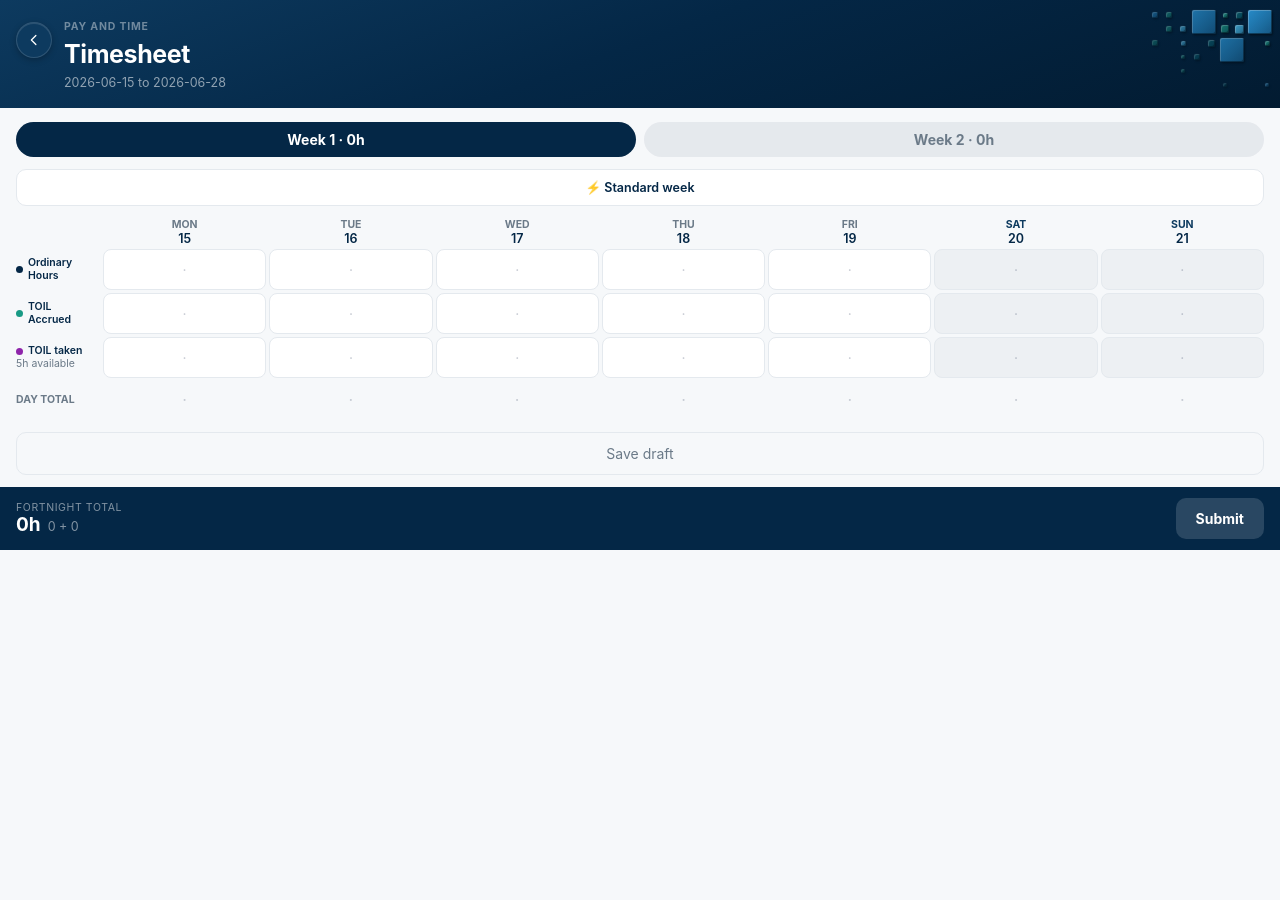
moving round the grid › on a phone, the keypad has Next day
Expected: the text "Ordinary Hours" is shown, [16,256,72,282]
Click the 1st button "·" at (185, 270), box [103,249,266,290]
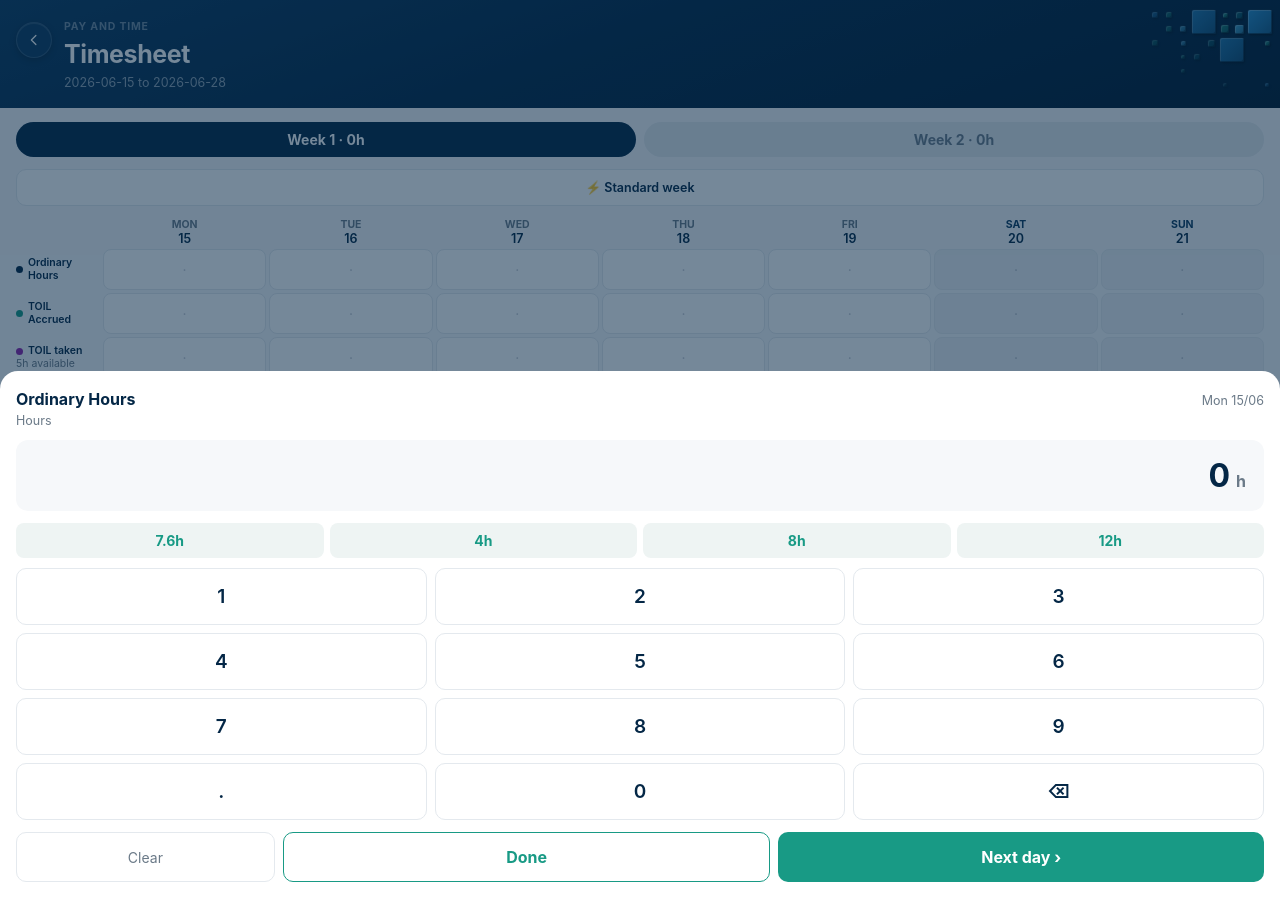
Click the button "8" at (640, 726), box [435,698,845,755]
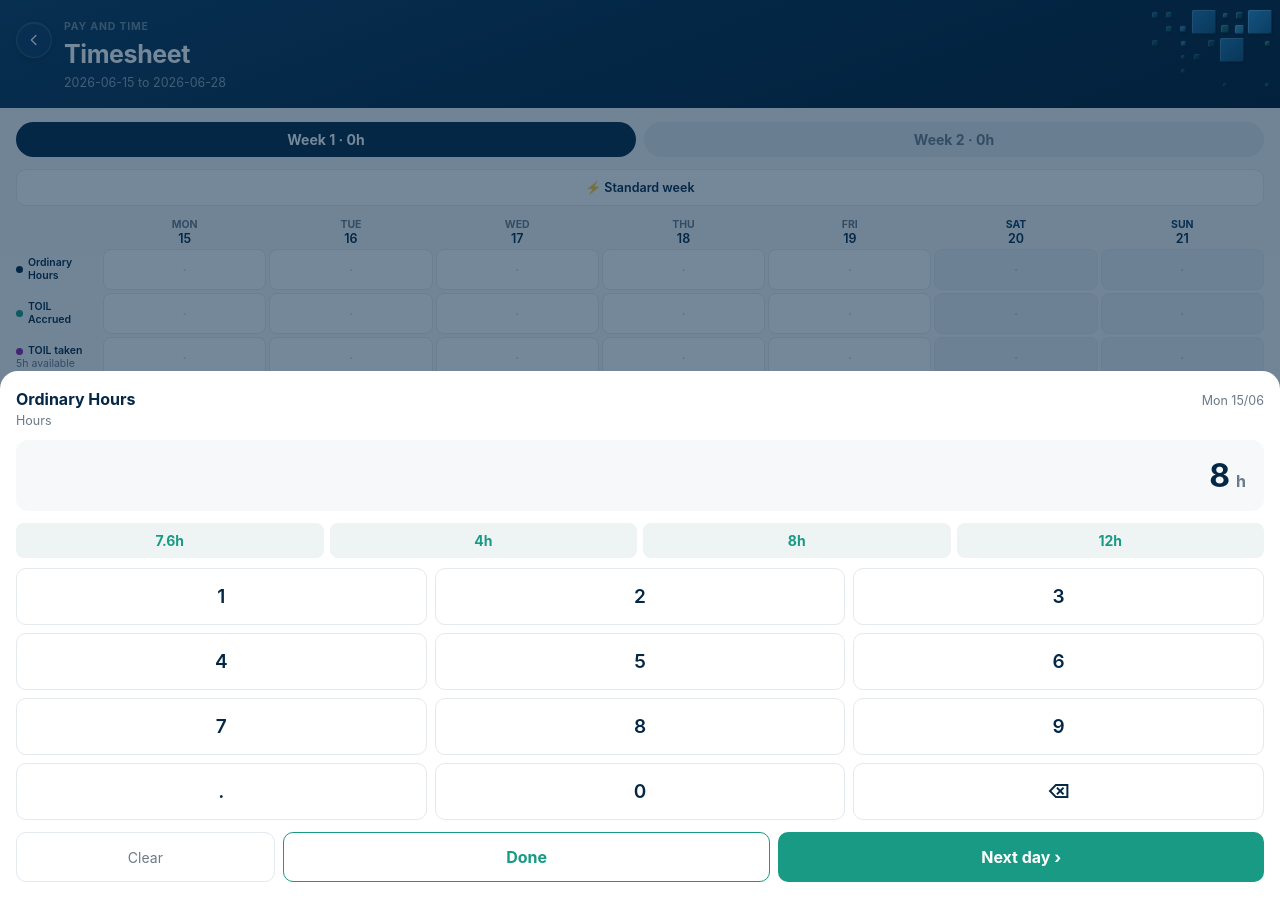
Click the button "Next day ›" at (1021, 857), box [778,832,1264,882]
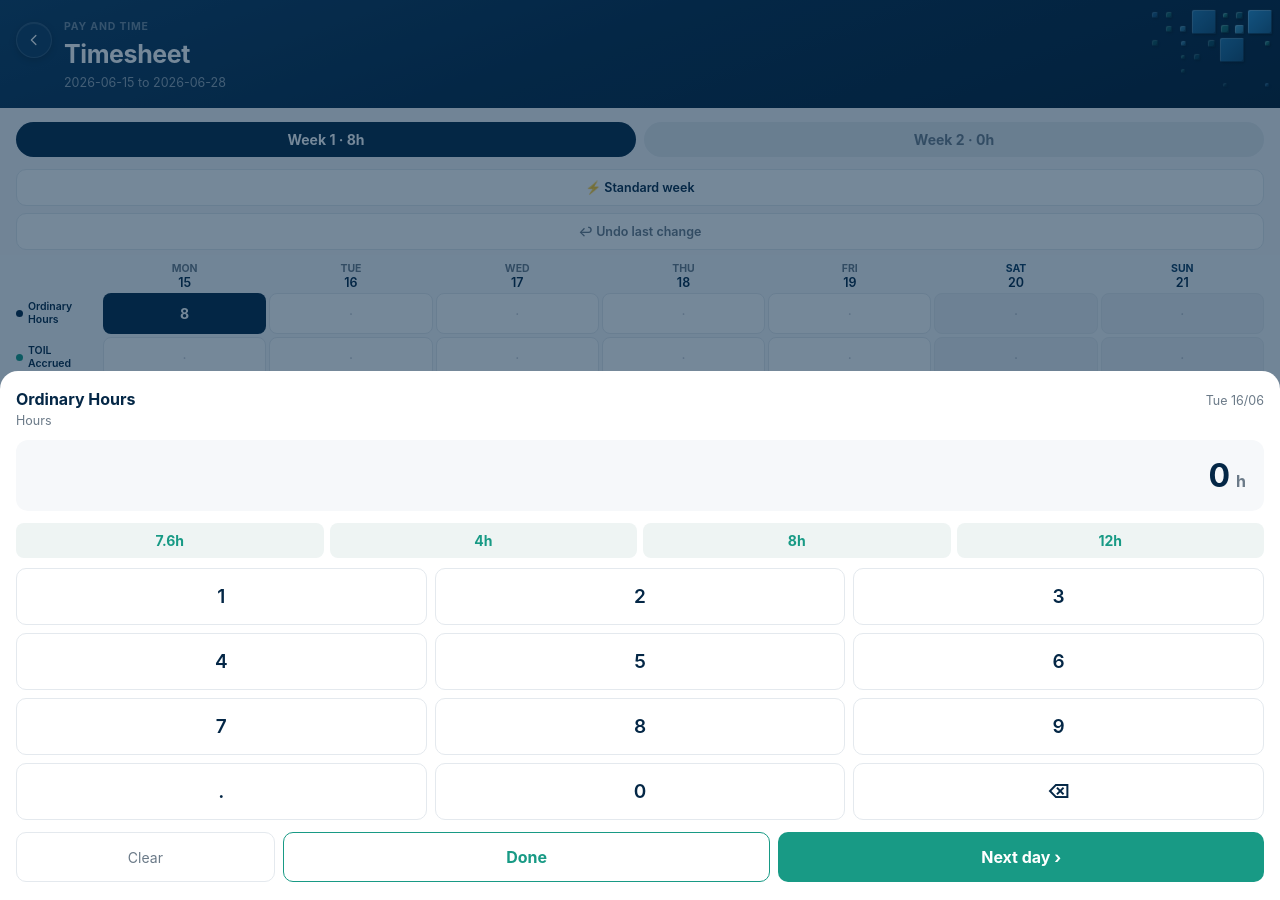
Click the button "6" at (1059, 662), box [853,633,1264,690]
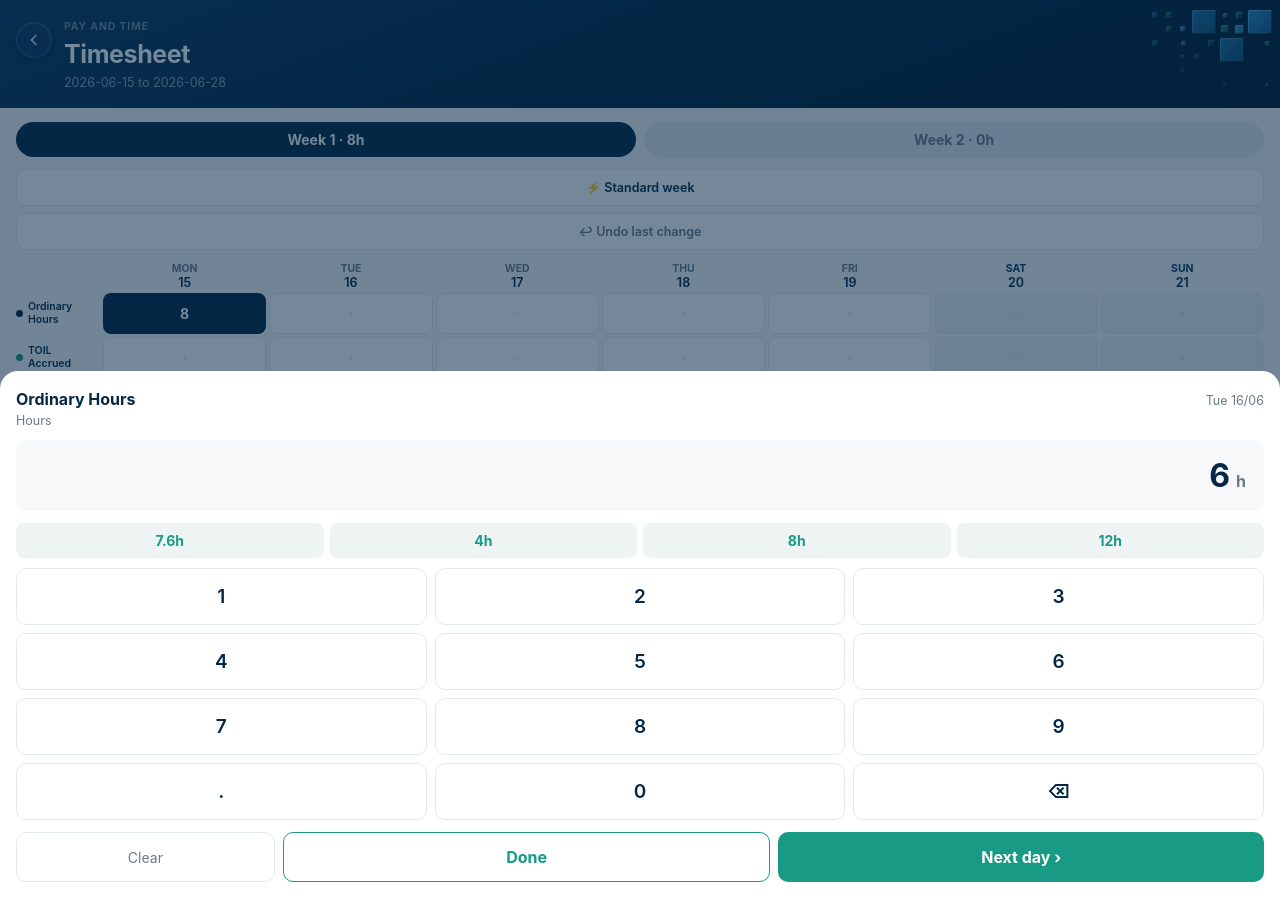
Click the button "Done" at (527, 857), box [283,832,770,882]
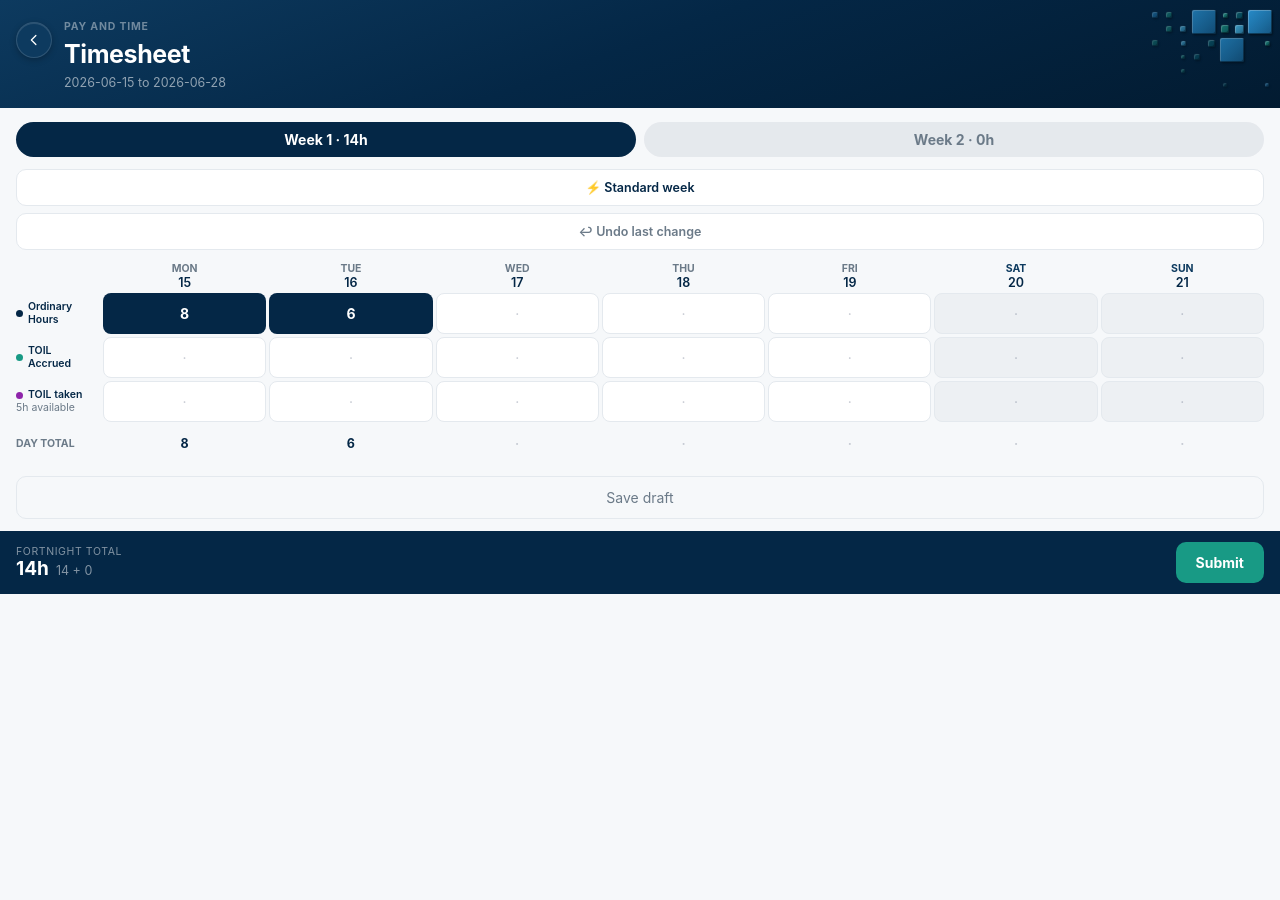
Expected: the button "Week 1 · 14h" is shown, [16,122,636,157]
